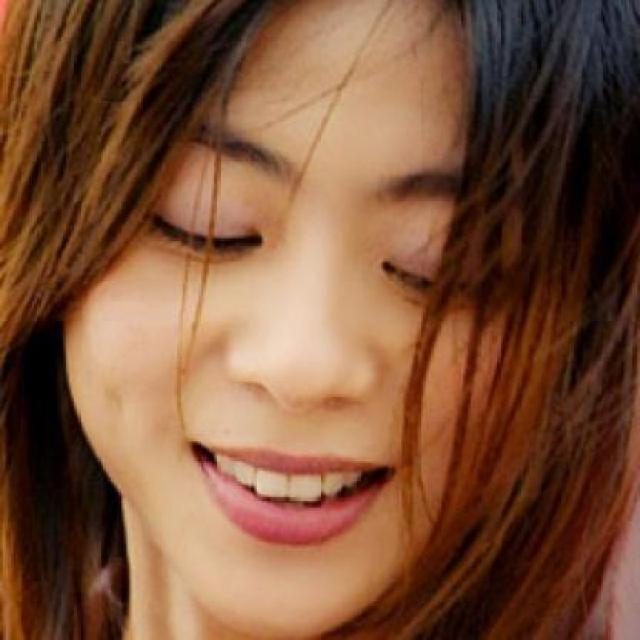drowsy: (157, 214, 265, 268), (382, 257, 432, 301)
